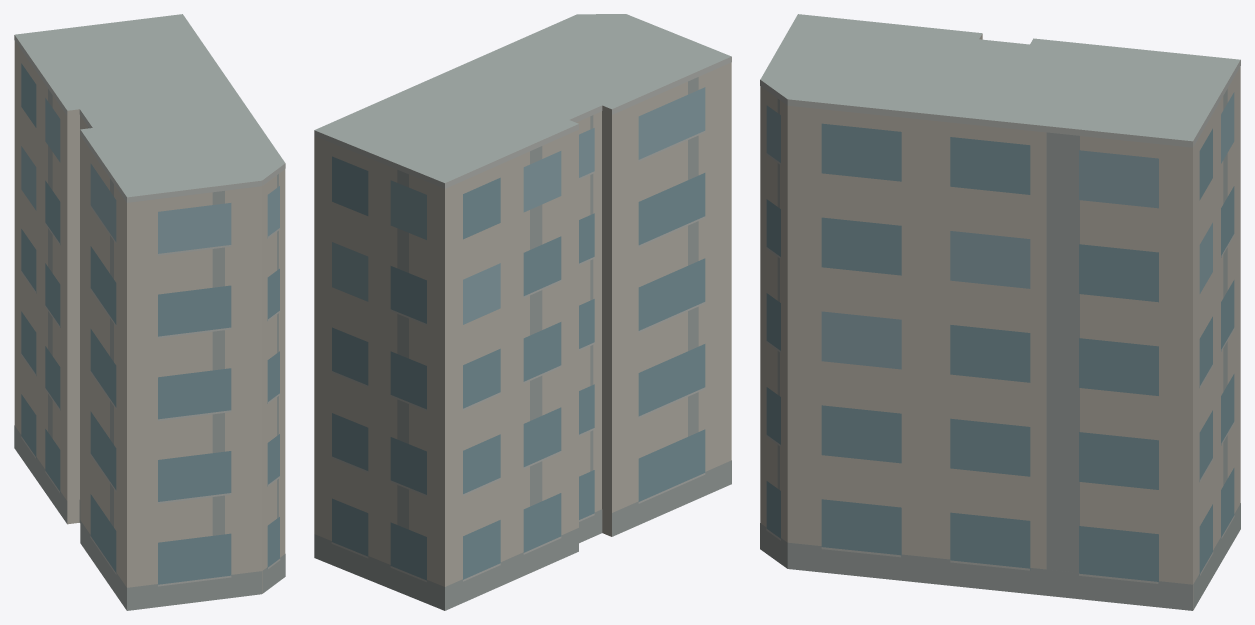
Rendered from survey-upis-32551482.glb.
The picture shows the model from 3 angles, left to right: view 1: azimuth 30°, elevation 25°; view 2: azimuth 150°, elevation 25°; view 3: azimuth 270°, elevation 25°; orthographic projection. The views are drawn at different scales.
Visible parts, largest first — view 1: survey-upis-32551482.tmp; view 2: survey-upis-32551482.tmp; view 3: survey-upis-32551482.tmp.
Boxes of the visible parts, bbox=[...] form: survey-upis-32551482.tmp: bbox=[14, 14, 285, 610]; survey-upis-32551482.tmp: bbox=[314, 14, 731, 610]; survey-upis-32551482.tmp: bbox=[760, 14, 1240, 610].
Bounding box in the file's own units: 10.6 × 18.21 × 16.9.
